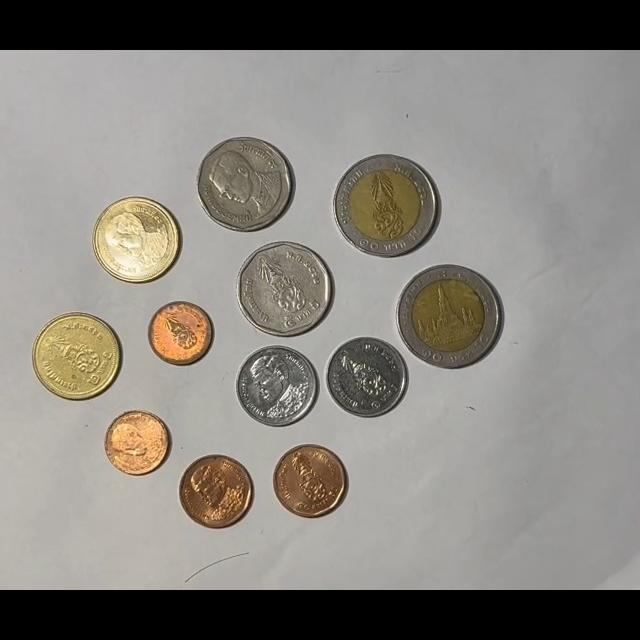1-baht: (325, 336, 408, 419), (235, 345, 318, 428)
10-baht: (396, 263, 502, 368), (332, 155, 439, 258)
2-baht: (33, 312, 123, 402), (91, 197, 180, 285)
25-satang: (104, 409, 171, 476), (148, 300, 214, 366)
5-baht: (197, 136, 295, 233), (236, 241, 333, 338)
50-satang: (178, 454, 254, 529), (272, 445, 347, 518)
